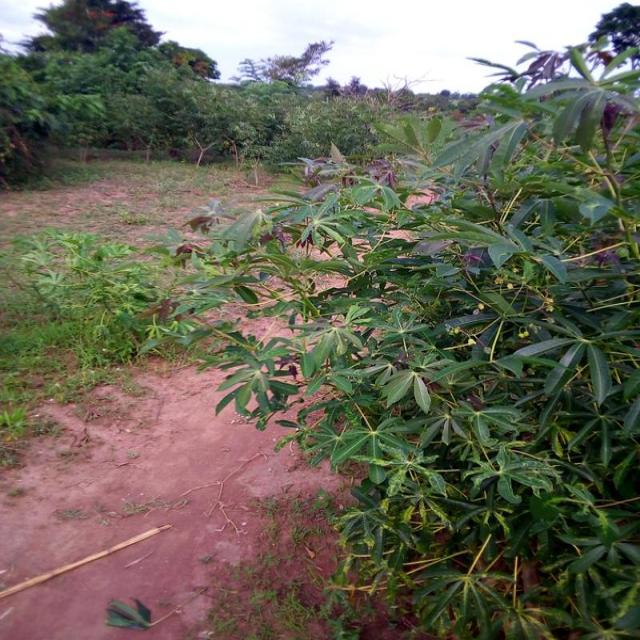cassava leaf: (134, 36, 638, 638), (104, 596, 151, 630)
